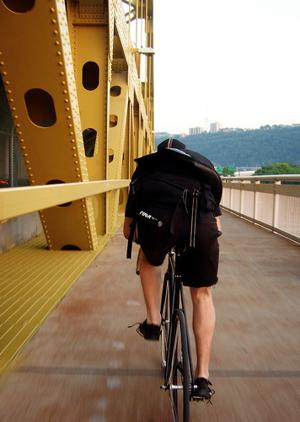person: (124, 142, 221, 399)
